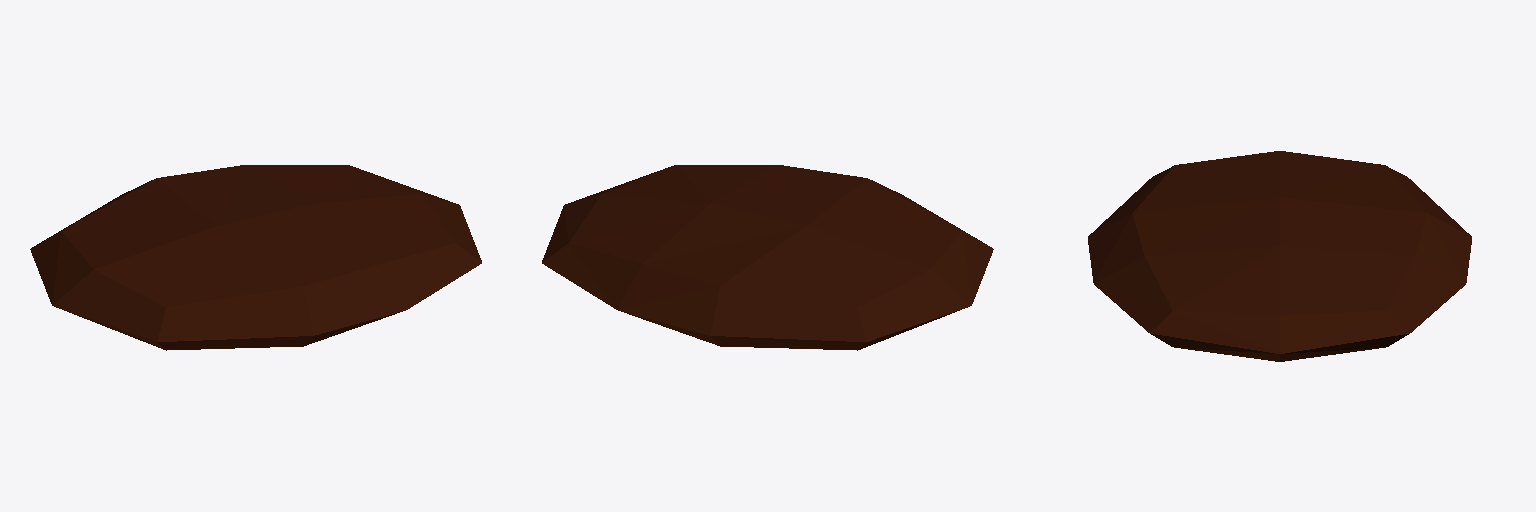
File: owl_tail1.obj
3 views of the same model, side by side, from view 1: azimuth 30°, elevation 25°; view 2: azimuth 150°, elevation 25°; view 3: azimuth 270°, elevation 25° (orthographic).
Visible parts, largest first — view 1: owl_tail1; view 2: owl_tail1; view 3: owl_tail1.
Part boxes in pixels (x1,y1,x2,y2): owl_tail1: (30,165,481,350); owl_tail1: (542,165,993,350); owl_tail1: (1088,151,1471,361).
Bounding box in the file's own units: 0.2395 × 0.0443 × 0.1958.